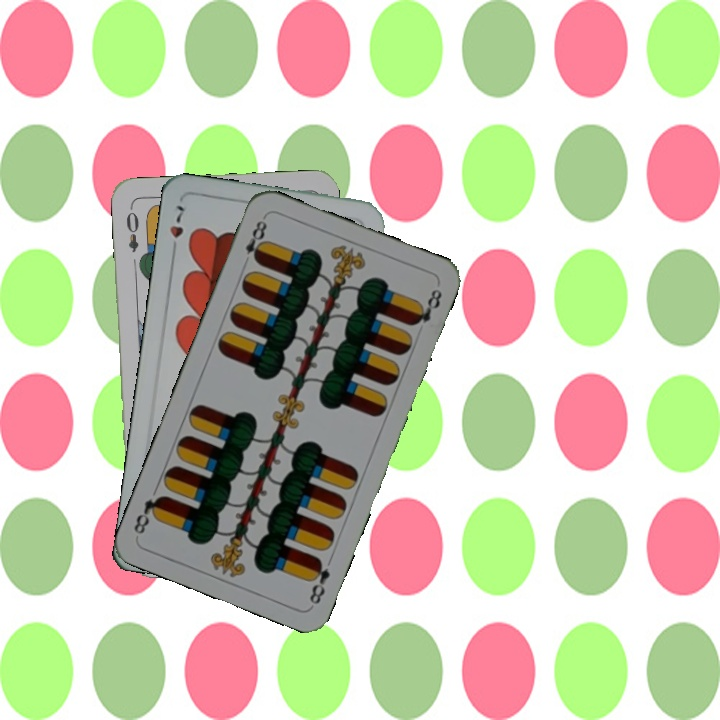E8: (305, 553, 333, 607), (241, 213, 270, 265)
EO: (122, 203, 142, 255)
H7: (166, 201, 188, 257)
